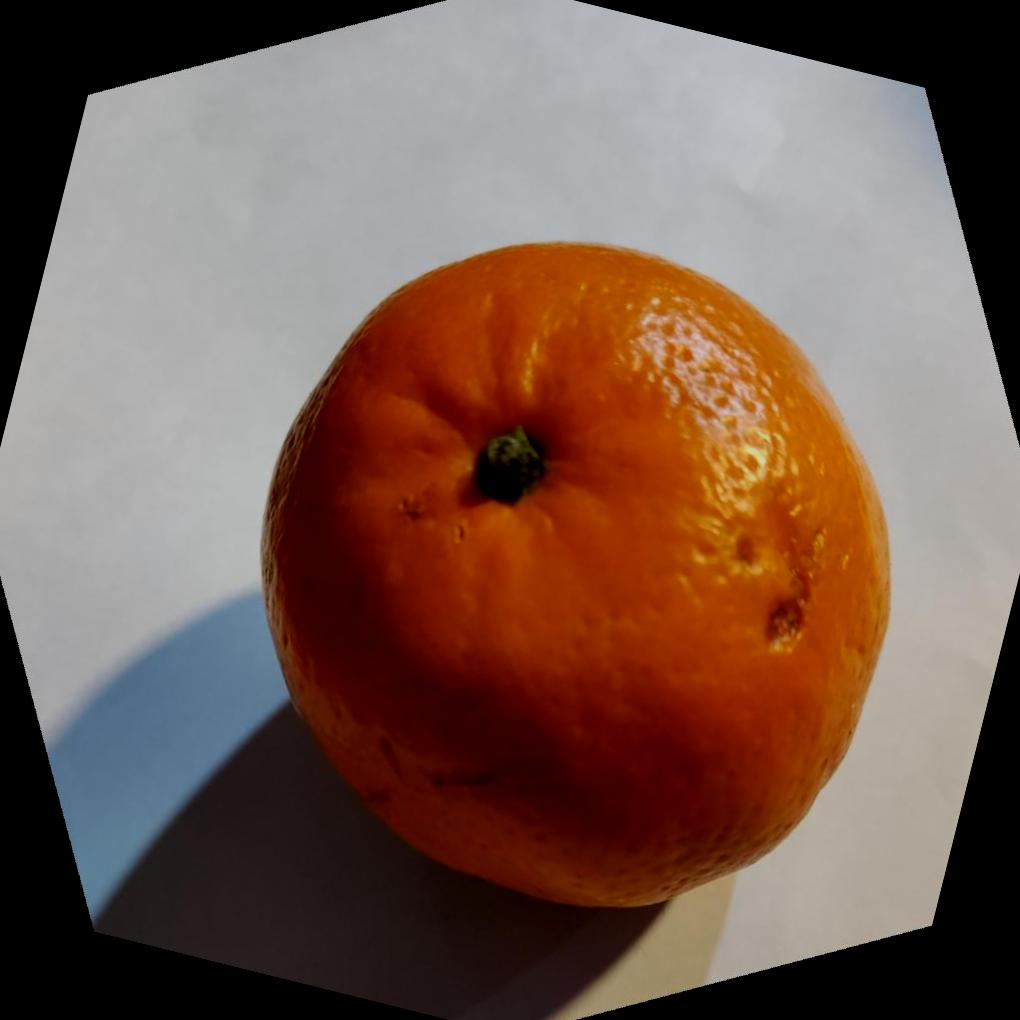FreshGuava: (257, 242, 892, 914)
